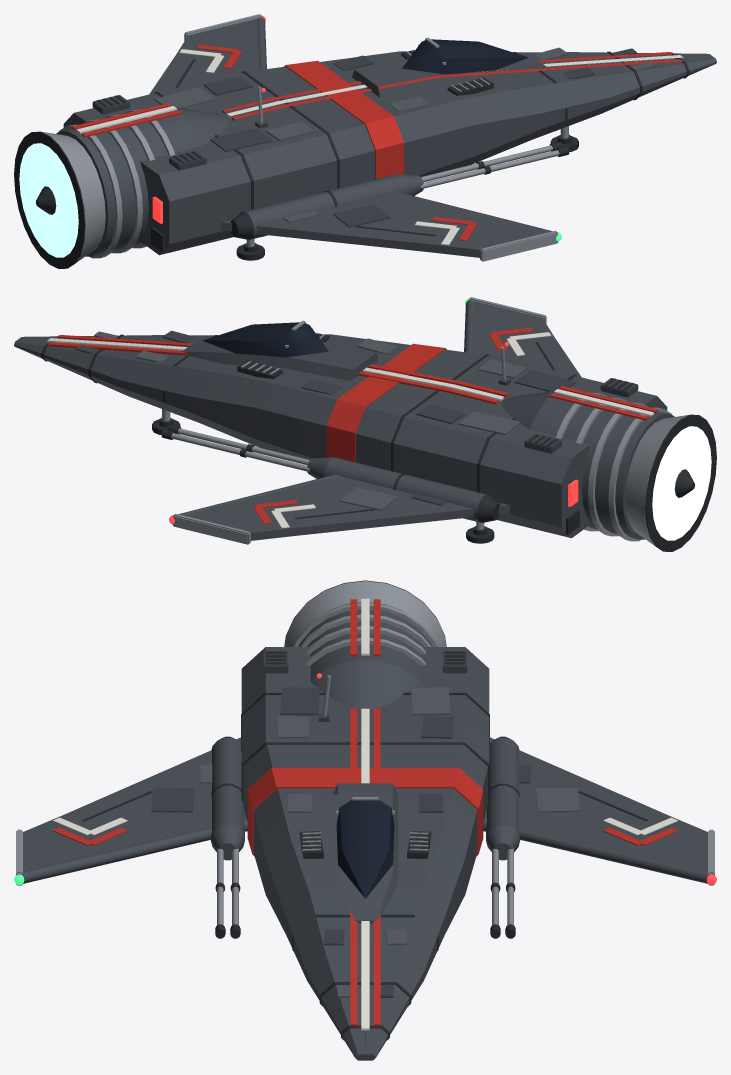
Rendered from hull_fighter.glb.
The picture shows the model from 3 angles, top to bottom: view 1: azimuth 30°, elevation 25°; view 2: azimuth 150°, elevation 25°; view 3: azimuth 270°, elevation 25°; orthographic projection. The views are drawn at different scales.
Parts seen in each view (by area): view 1: hull_fighter_fighter_gunmetal, hull_fighter_fighter_steel, hull_fighter_fighter_red, hull_fighter_fighter_seam, hull_fighter_fighter_glow, hull_fighter_fighter_patch_dark, hull_fighter_fighter_glass, hull_fighter_fighter_white, hull_fighter_fighter_patch_light; view 2: hull_fighter_fighter_gunmetal, hull_fighter_fighter_steel, hull_fighter_fighter_red, hull_fighter_fighter_seam, hull_fighter_fighter_glow, hull_fighter_fighter_patch_dark, hull_fighter_fighter_glass, hull_fighter_fighter_patch_light, hull_fighter_fighter_white; view 3: hull_fighter_fighter_gunmetal, hull_fighter_fighter_steel, hull_fighter_fighter_red, hull_fighter_fighter_seam, hull_fighter_fighter_patch_dark, hull_fighter_fighter_glass, hull_fighter_fighter_patch_light, hull_fighter_fighter_white.
Part boxes in pixels (x1=…): hull_fighter_fighter_gunmetal: x1=56, y1=17, x2=716, y2=257; hull_fighter_fighter_steel: x1=42, y1=14, x2=568, y2=263; hull_fighter_fighter_red: x1=72, y1=44, x2=683, y2=240; hull_fighter_fighter_seam: x1=14, y1=50, x2=689, y2=268; hull_fighter_fighter_glow: x1=19, y1=143, x2=78, y2=257; hull_fighter_fighter_patch_dark: x1=92, y1=48, x2=636, y2=227; hull_fighter_fighter_glass: x1=402, y1=39, x2=528, y2=74; hull_fighter_fighter_white: x1=76, y1=49, x2=683, y2=245; hull_fighter_fighter_patch_light: x1=154, y1=47, x2=655, y2=222; hull_fighter_fighter_gunmetal: x1=14, y1=300, x2=674, y2=540; hull_fighter_fighter_steel: x1=162, y1=297, x2=688, y2=546; hull_fighter_fighter_red: x1=47, y1=327, x2=658, y2=523; hull_fighter_fighter_seam: x1=41, y1=333, x2=716, y2=551; hull_fighter_fighter_glow: x1=652, y1=426, x2=711, y2=540; hull_fighter_fighter_patch_dark: x1=75, y1=330, x2=638, y2=505; hull_fighter_fighter_glass: x1=202, y1=322, x2=328, y2=357; hull_fighter_fighter_patch_light: x1=94, y1=331, x2=526, y2=510; hull_fighter_fighter_white: x1=47, y1=332, x2=654, y2=528; hull_fighter_fighter_gunmetal: x1=22, y1=602, x2=708, y2=1060; hull_fighter_fighter_steel: x1=16, y1=581, x2=714, y2=925; hull_fighter_fighter_red: x1=53, y1=599, x2=677, y2=1025; hull_fighter_fighter_seam: x1=83, y1=580, x2=647, y2=1043; hull_fighter_fighter_patch_dark: x1=151, y1=650, x2=530, y2=997; hull_fighter_fighter_glass: x1=336, y1=800, x2=394, y2=898; hull_fighter_fighter_patch_light: x1=200, y1=687, x2=579, y2=997; hull_fighter_fighter_white: x1=53, y1=598, x2=677, y2=1030.
Bounding box in the file's own units: 13.25 × 2.84 × 10.22.
